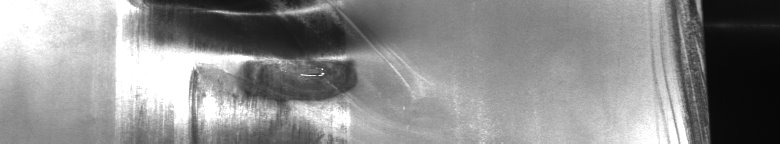ke: (136, 4, 356, 136)
